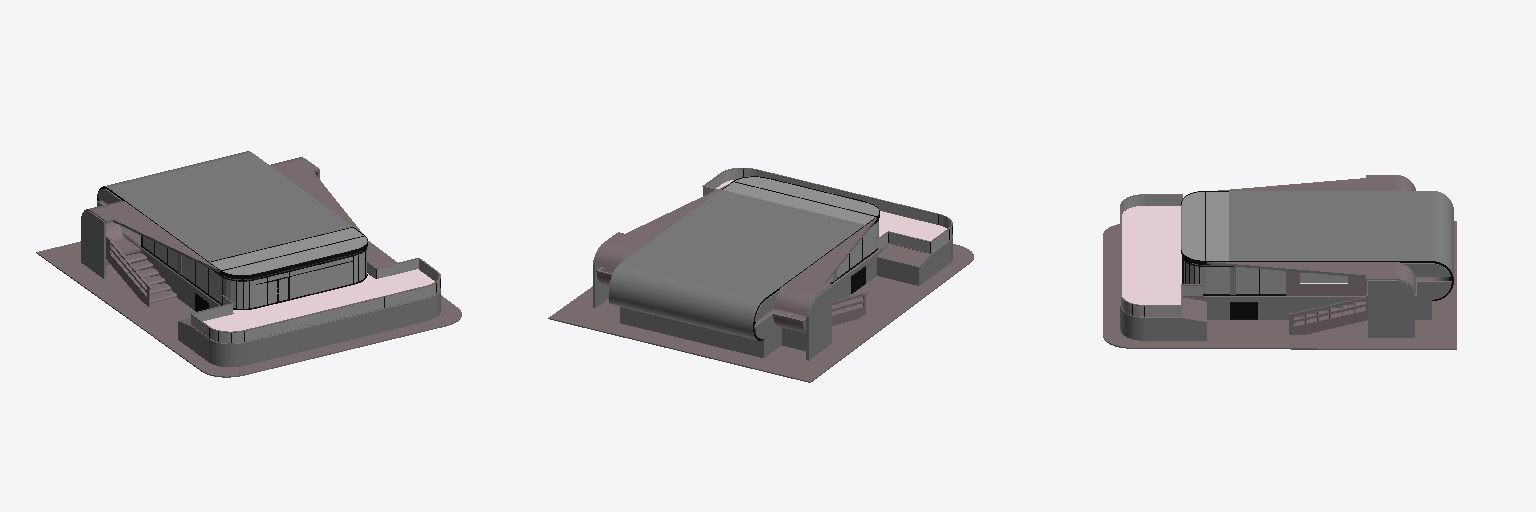
The model's file is House.obj.
3 renders of one model, left to right at view 1: azimuth 30°, elevation 25°; view 2: azimuth 150°, elevation 25°; view 3: azimuth 270°, elevation 25°, orthographic.
Parts seen in each view (by area): view 1: Walls_outside_Plane.036, FLoor_white_Plane.024, Glas_Cube.003, Tiles_outside_1_Plane.035, Metal_1_Plane.033, Cube.009_Cube.001; view 2: Walls_outside_Plane.036, FLoor_white_Plane.024, Glas_Cube.003, Tiles_outside_1_Plane.035, Metal_1_Plane.033; view 3: Walls_outside_Plane.036, FLoor_white_Plane.024, Glas_Cube.003, Tiles_outside_1_Plane.035, Metal_1_Plane.033.
Boxes of the visible parts, x1,y1,x2,y2 form: Walls_outside_Plane.036: [81, 151, 440, 366]; FLoor_white_Plane.024: [36, 157, 461, 377]; Glas_Cube.003: [143, 228, 439, 342]; Tiles_outside_1_Plane.035: [203, 269, 434, 331]; Metal_1_Plane.033: [97, 186, 440, 342]; Cube.009_Cube.001: [267, 277, 289, 305]; Walls_outside_Plane.036: [593, 176, 952, 360]; FLoor_white_Plane.024: [548, 168, 973, 382]; Glas_Cube.003: [703, 169, 951, 283]; Tiles_outside_1_Plane.035: [716, 180, 946, 240]; Metal_1_Plane.033: [722, 169, 952, 340]; Walls_outside_Plane.036: [1120, 191, 1453, 340]; FLoor_white_Plane.024: [1103, 175, 1456, 349]; Glas_Cube.003: [1121, 192, 1347, 316]; Tiles_outside_1_Plane.035: [1122, 206, 1181, 304]; Metal_1_Plane.033: [1132, 191, 1453, 319].
Bounding box in the file's own units: 24.77 × 5.46 × 29.03.